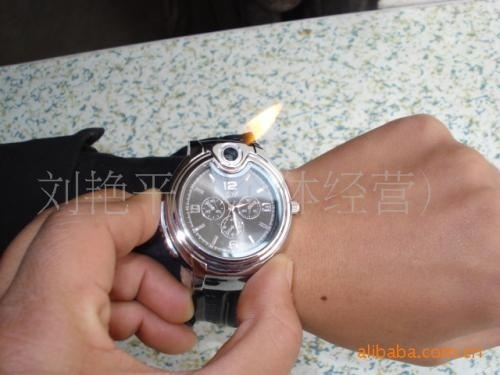fire: (241, 100, 283, 142)
